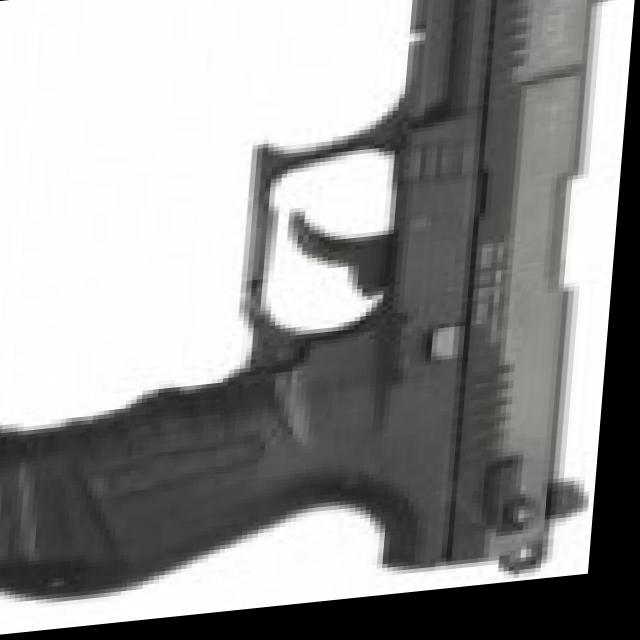handgun: (0, 0, 628, 623)
